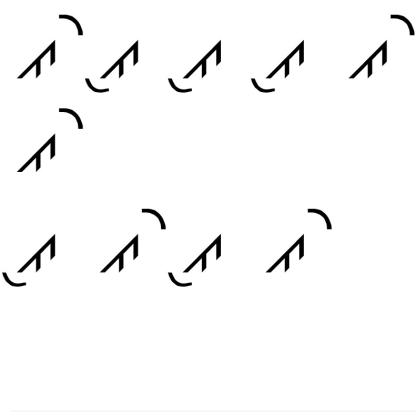kaw: (244, 36, 309, 100), (2, 220, 57, 292), (85, 37, 147, 99), (162, 37, 227, 94), (170, 226, 227, 290)
kay: (259, 196, 336, 278), (94, 199, 169, 282), (12, 102, 87, 180), (345, 10, 415, 84), (15, 8, 85, 79)
